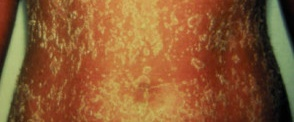SJS-TEN: (4, 0, 294, 122)
